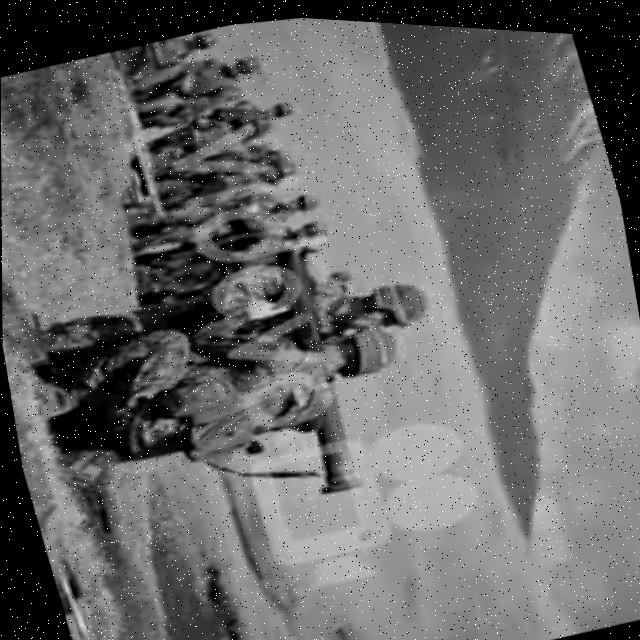rocket: (252, 231, 382, 499)
